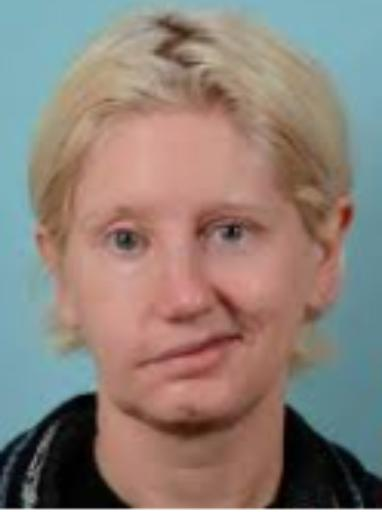left_eye: (202, 220, 268, 249)
left_lip_corner: (230, 328, 251, 350)
right_eye: (99, 227, 153, 257)
right_lip_corner: (130, 356, 164, 373)
